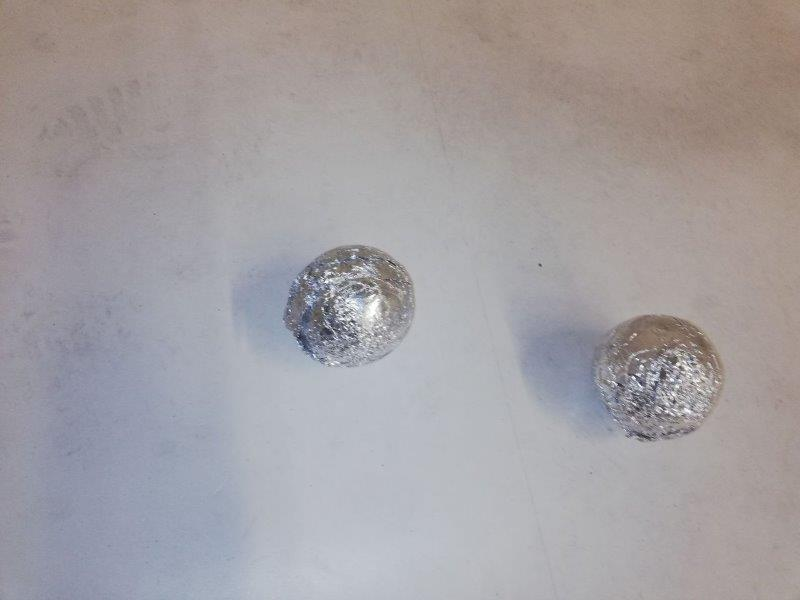bianca: (595, 313, 721, 438), (288, 244, 412, 366)
